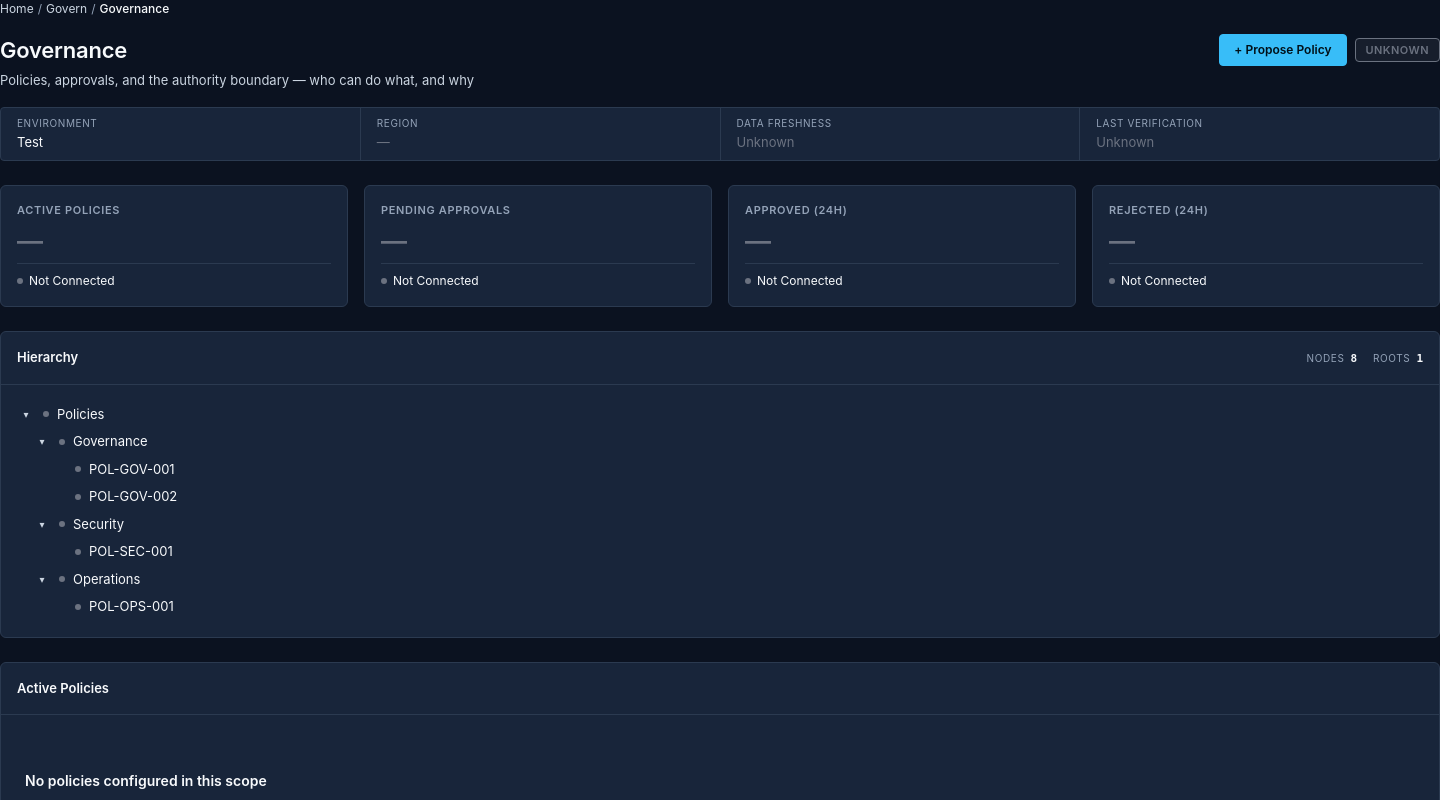
Test: GovernancePage › clicking Propose Policy opens the DangerousActionDialog
This screenshot has width=1440, height=800.
Click the button with test id "eg-governance-propose". click: click(1283, 50)
box: x1=1219 y1=34 x2=1346 y2=66
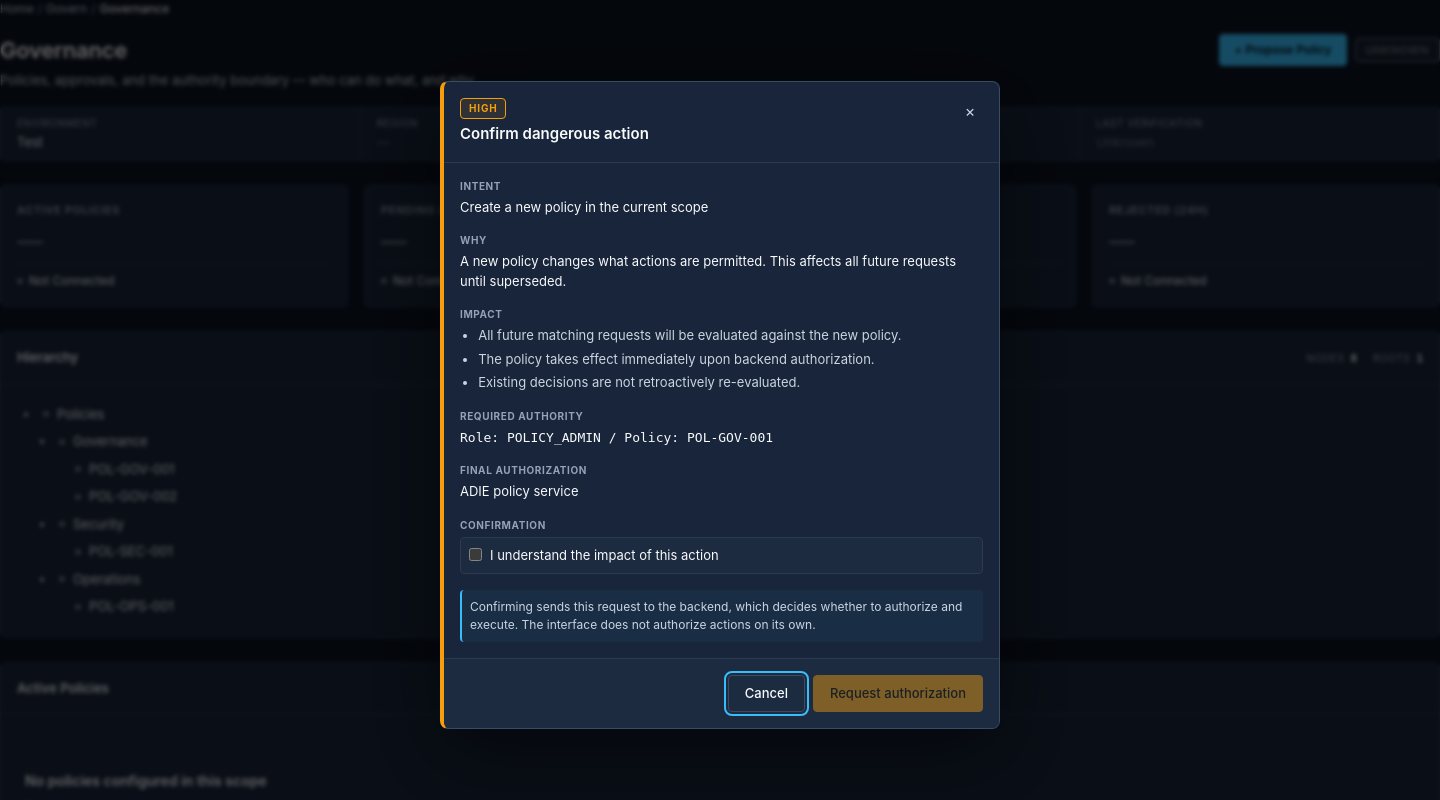
expect the dialog with test id "eg-danger-dialog" is shown: met, box x1=440 y1=81 x2=1000 y2=729
